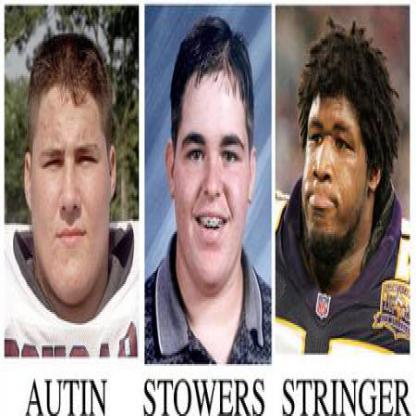face: (30, 37, 113, 307), (175, 28, 251, 290), (296, 35, 373, 260)
